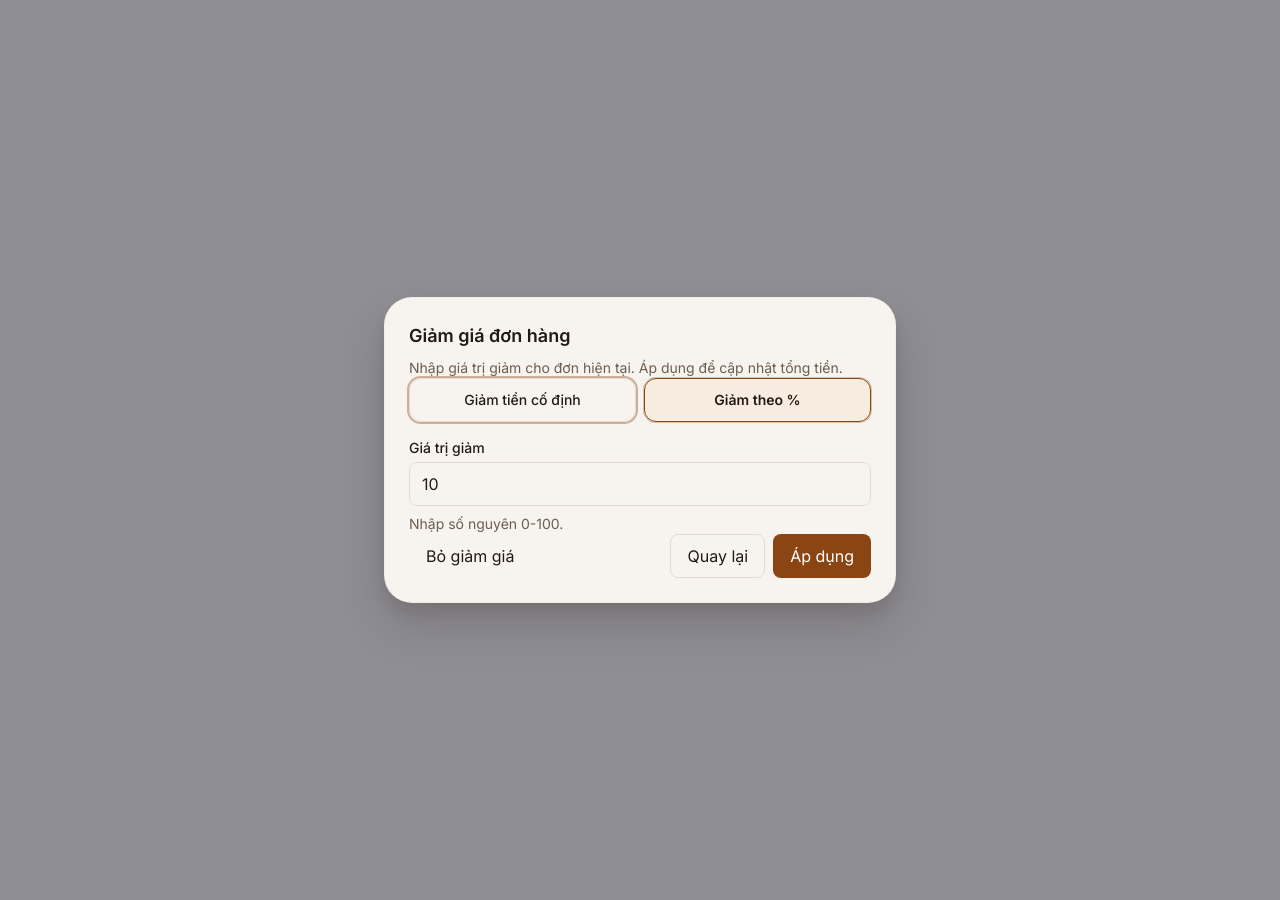
Test: DiscountModal › shows error when percentage value exceeds 100
Replace the text in the field labelled "Giá trị giảm" with "150". click: (640, 484)
box: [409,462,871,506]
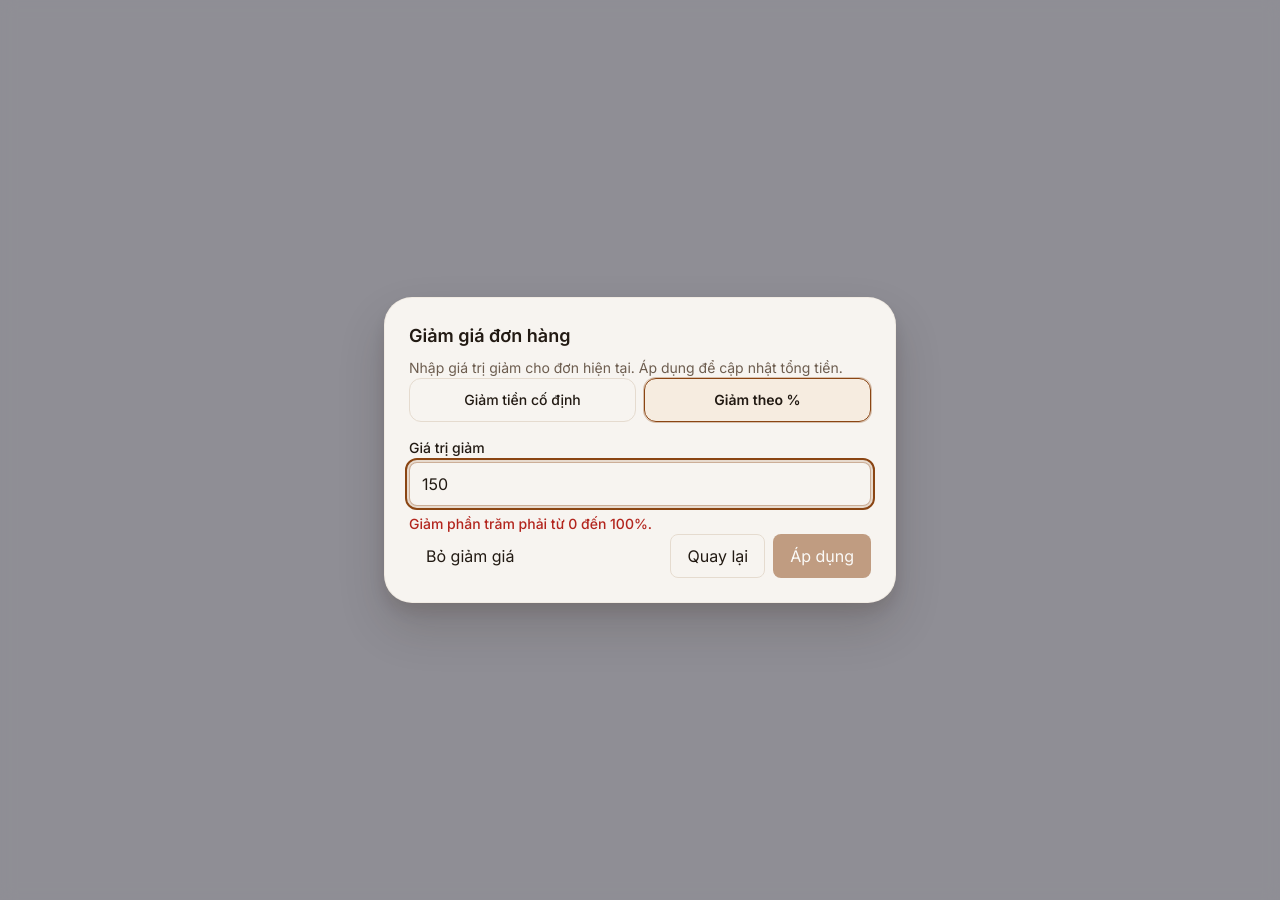
Now the button "Áp dụng" is disabled, box [773,534,871,578]
Now the text "Giảm phần trăm phải từ 0 đến 100%." is shown, box [409,515,652,532]
